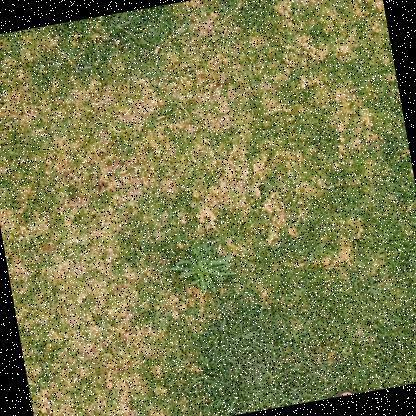Weeds: (166, 232, 239, 301)
